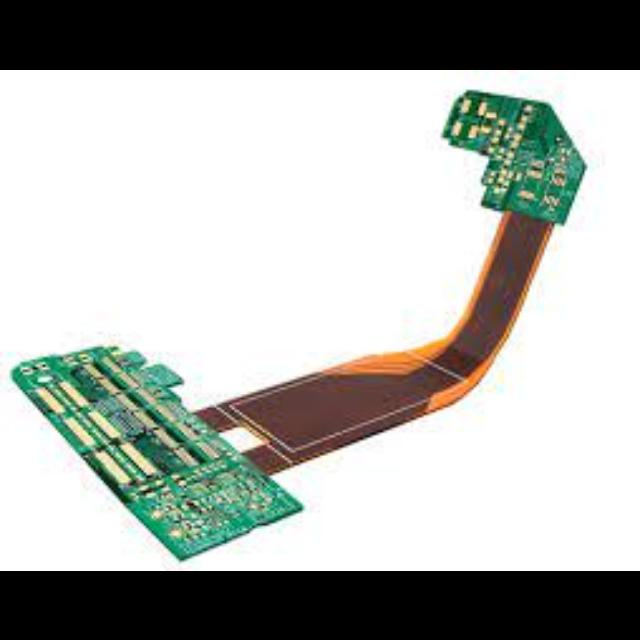PCB: (10, 89, 587, 563)
